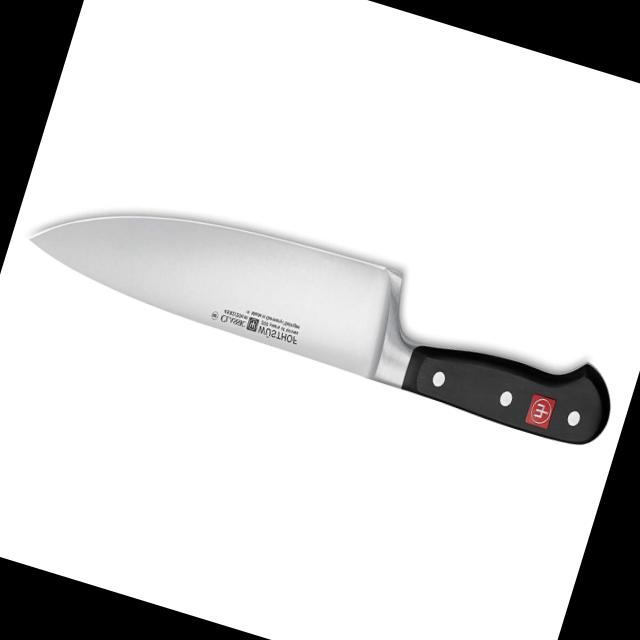Weapon: (14, 158, 639, 456)
